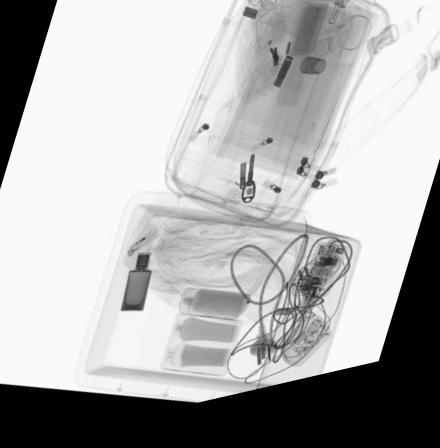Lighter: (126, 231, 161, 264)
